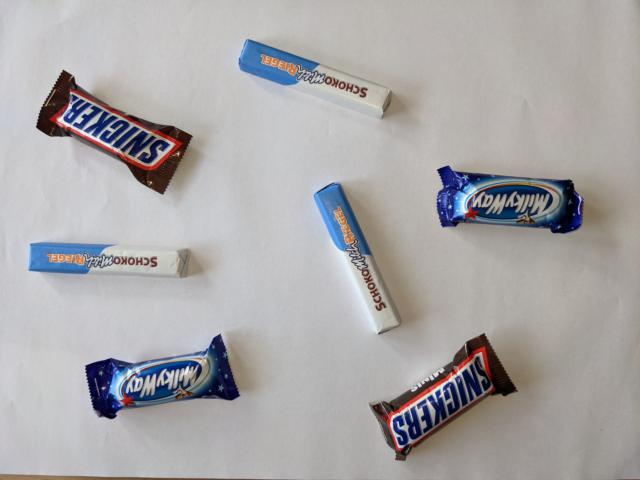MilkyWay: (82, 332, 241, 422), (434, 163, 586, 236)
Schokoriegel: (312, 181, 405, 338), (237, 37, 396, 122), (27, 241, 195, 281)
Snickers: (34, 67, 195, 196), (366, 333, 519, 463)
